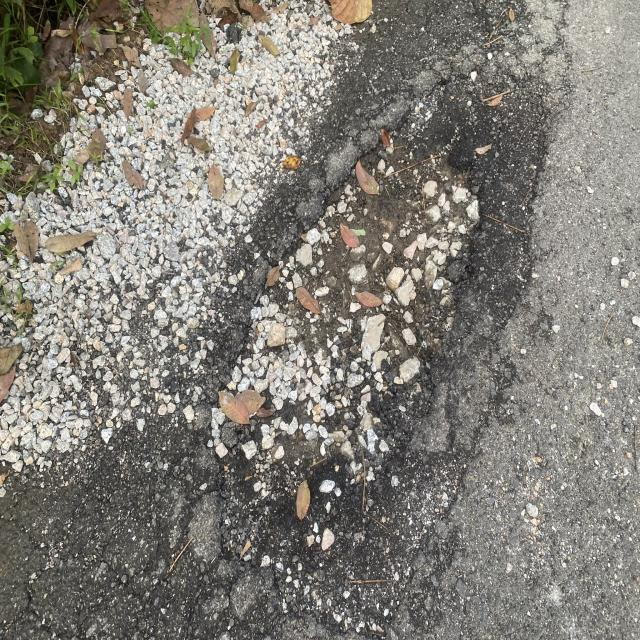Pothole: (200, 74, 504, 596)
